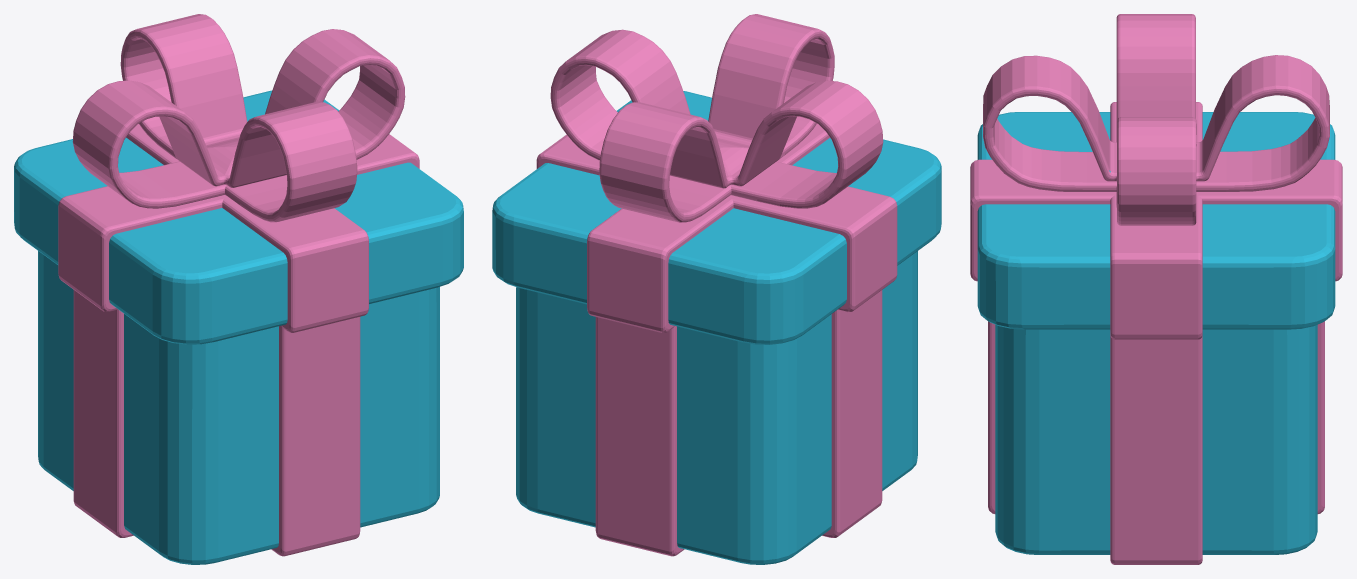
File: Gift box - Sketcfab.fbx
3 views of the same model, side by side, from view 1: azimuth 30°, elevation 25°; view 2: azimuth 150°, elevation 25°; view 3: azimuth 270°, elevation 25° (orthographic).
Visible parts, largest first — view 1: Gift box, Gift box.001; view 2: Gift box, Gift box.001; view 3: Gift box, Gift box.001.
Part boxes in pixels (box(x1,y1,x2,y2)): Gift box: box(14, 14, 463, 344); Gift box.001: box(38, 251, 439, 564); Gift box: box(492, 14, 941, 344); Gift box.001: box(516, 251, 917, 564); Gift box: box(970, 14, 1342, 339); Gift box.001: box(988, 321, 1324, 564).
Size of the model in its own units: 231 by 292 by 231.
